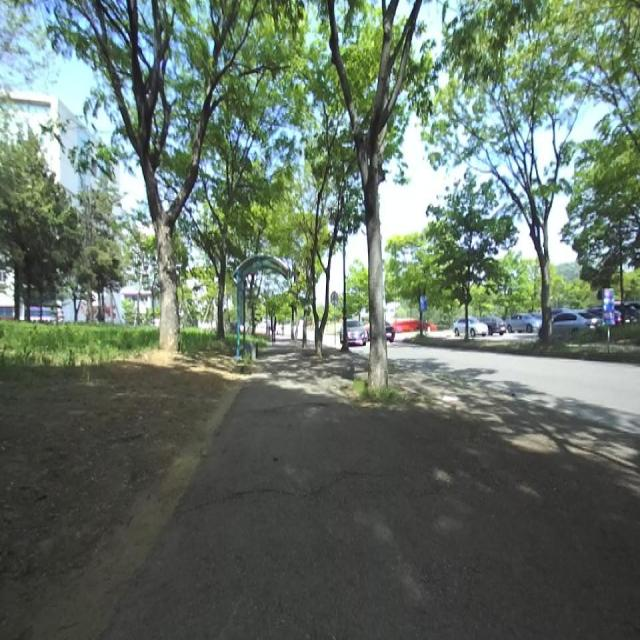sidewalk: (109, 344, 640, 639)
